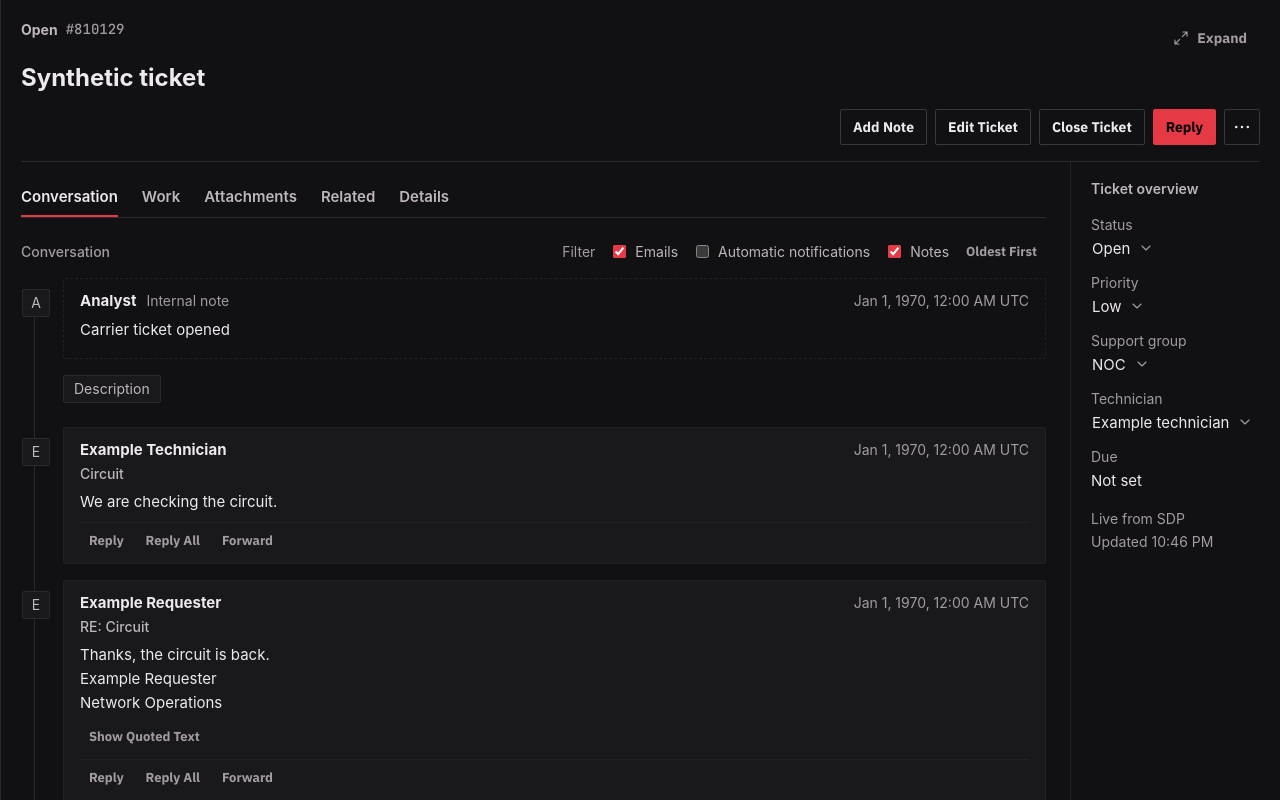
Test: quotes the newest email in a reply from the ticket header, without the mail it quotes
Click the 1st button "Reply". click: (1184, 127)
box: [1153, 109, 1216, 145]
(page scrolled)
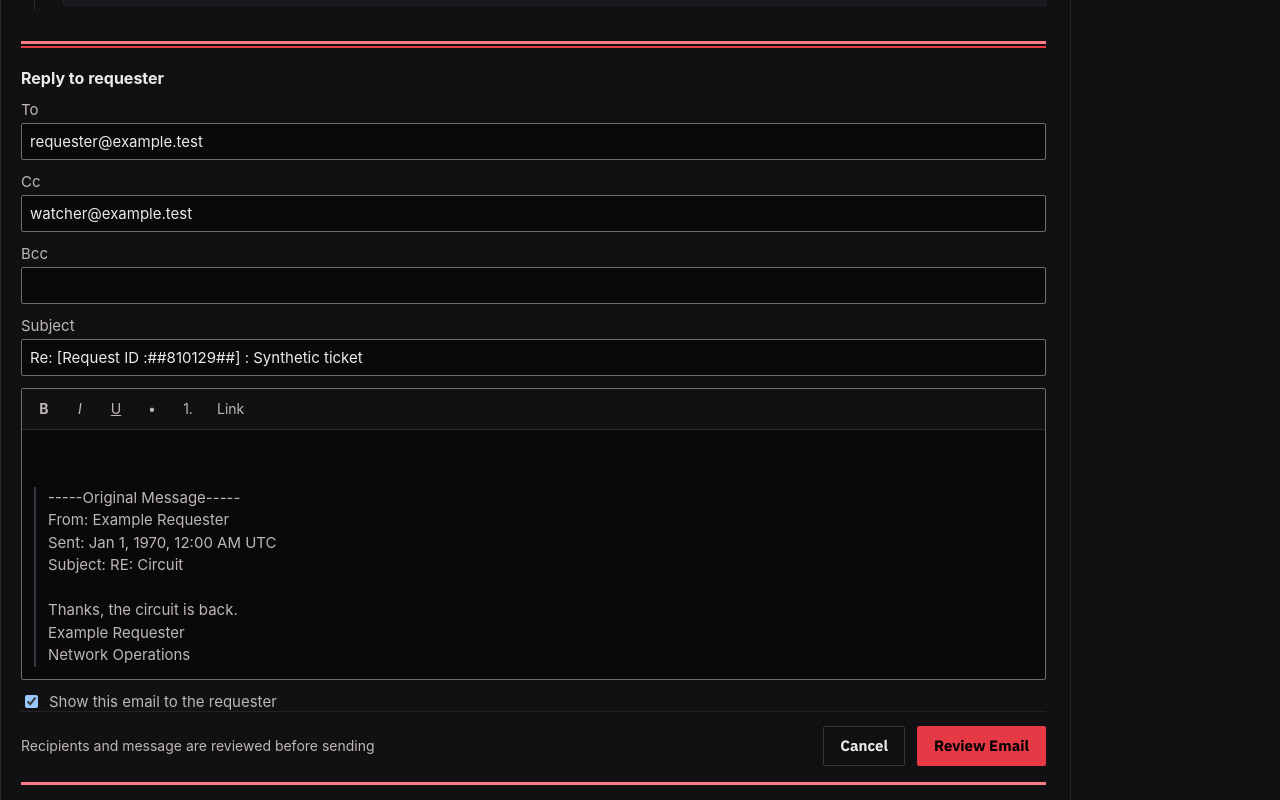
Expected: the dropdown labelled "To" holds "requester@example.test", [21, 123, 1046, 160]
Expected: the text box that starts with "-----Original Message-----" shows "From: Example Requester", [48, 510, 229, 529]
Expected: the text box that starts with "-----Original Message-----" shows "Thanks, the circuit is back.", [48, 600, 238, 619]
